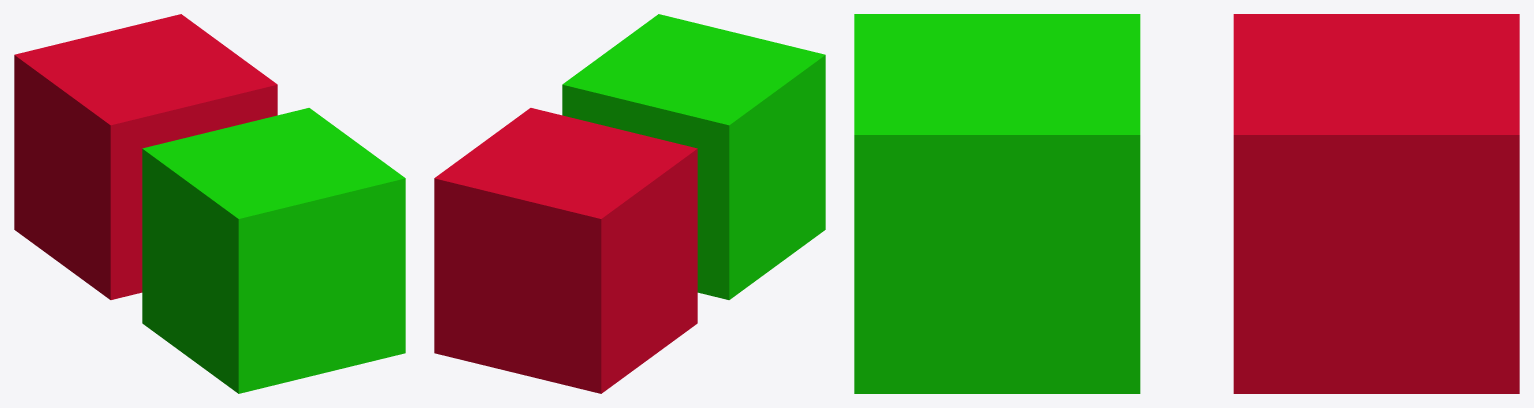
File: one_mesh_two_materials.glb
3 renders of one model, left to right at view 1: azimuth 30°, elevation 25°; view 2: azimuth 150°, elevation 25°; view 3: azimuth 270°, elevation 25°, orthographic. The views are drawn at different scales.
Parts seen in each view (by area): view 1: Cube; view 2: Cube; view 3: Cube.
Part boxes in pixels (<box>): Cube: <box>14,14,405,393</box>; Cube: <box>434,14,825,393</box>; Cube: <box>854,14,1519,393</box>.
Size of the model in its own units: 2 by 2 by 4.65.
